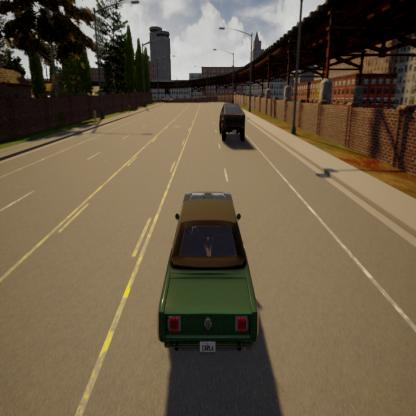Cars: (157, 180, 269, 376), (210, 96, 252, 146)
Pedestrian: (91, 107, 99, 127)
